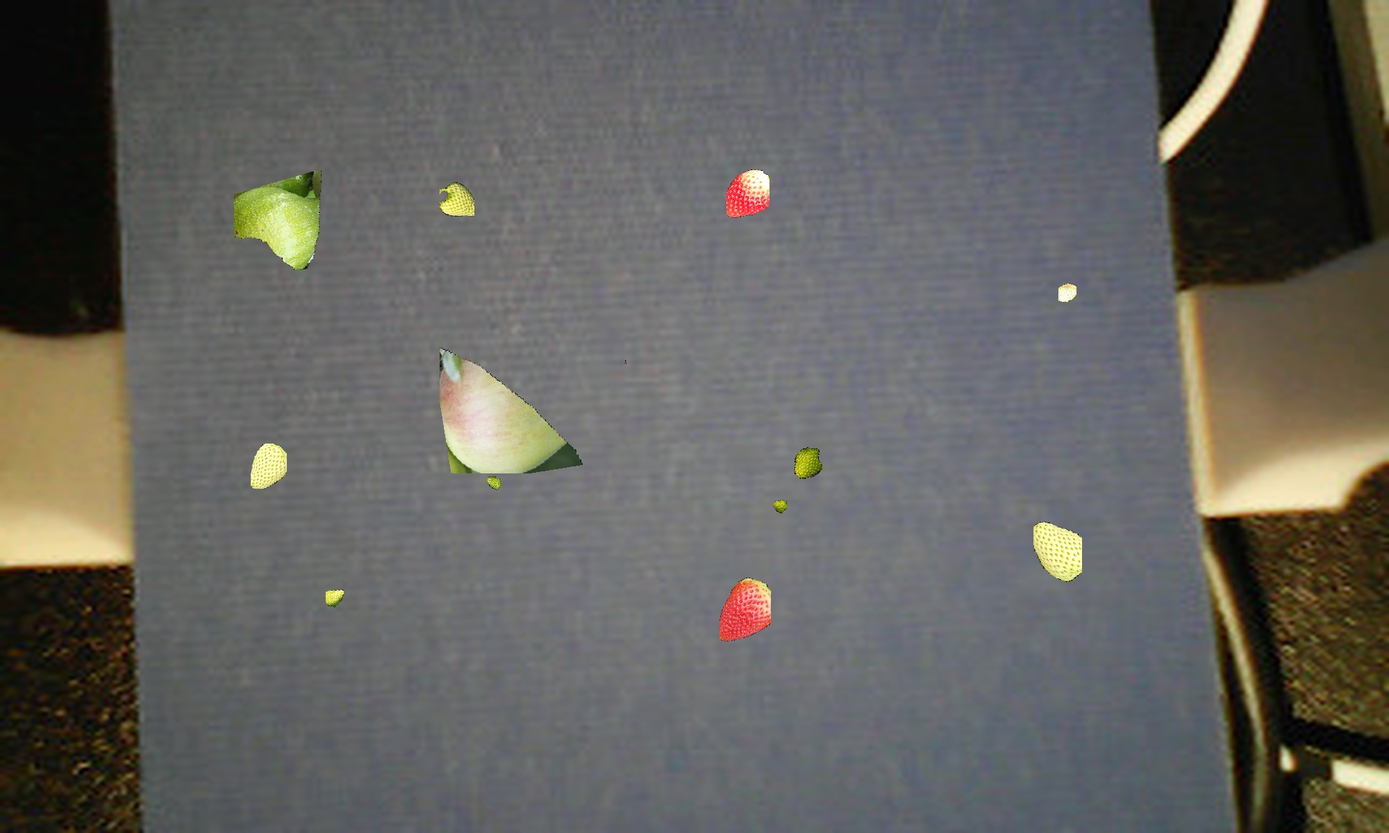not strawberry: (429, 343, 590, 472), (229, 176, 334, 270)
strawberry: (715, 573, 779, 647), (1026, 510, 1088, 581), (243, 442, 302, 498), (718, 170, 774, 216), (430, 185, 482, 216), (791, 446, 831, 477), (1058, 277, 1080, 304), (322, 586, 343, 604)
